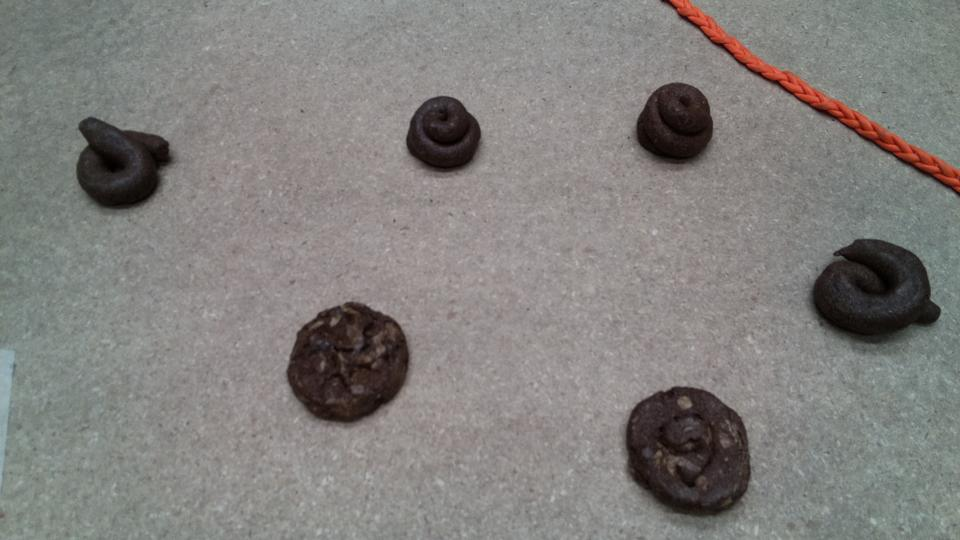poop: (629, 388, 749, 511), (295, 304, 410, 422), (819, 240, 941, 337), (77, 118, 169, 206), (639, 83, 714, 160), (407, 97, 479, 170)
rope: (799, 90, 858, 125), (910, 151, 960, 188), (859, 125, 910, 156), (675, 1, 715, 34), (752, 62, 799, 90), (715, 34, 752, 62)
